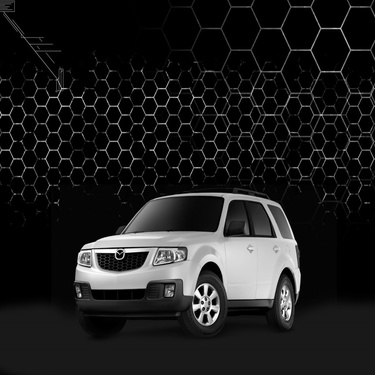car: (65, 179, 313, 336)
